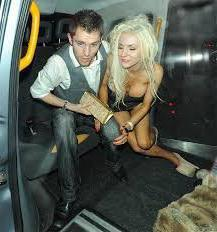Drunk: (72, 28, 100, 66), (117, 31, 140, 70)
